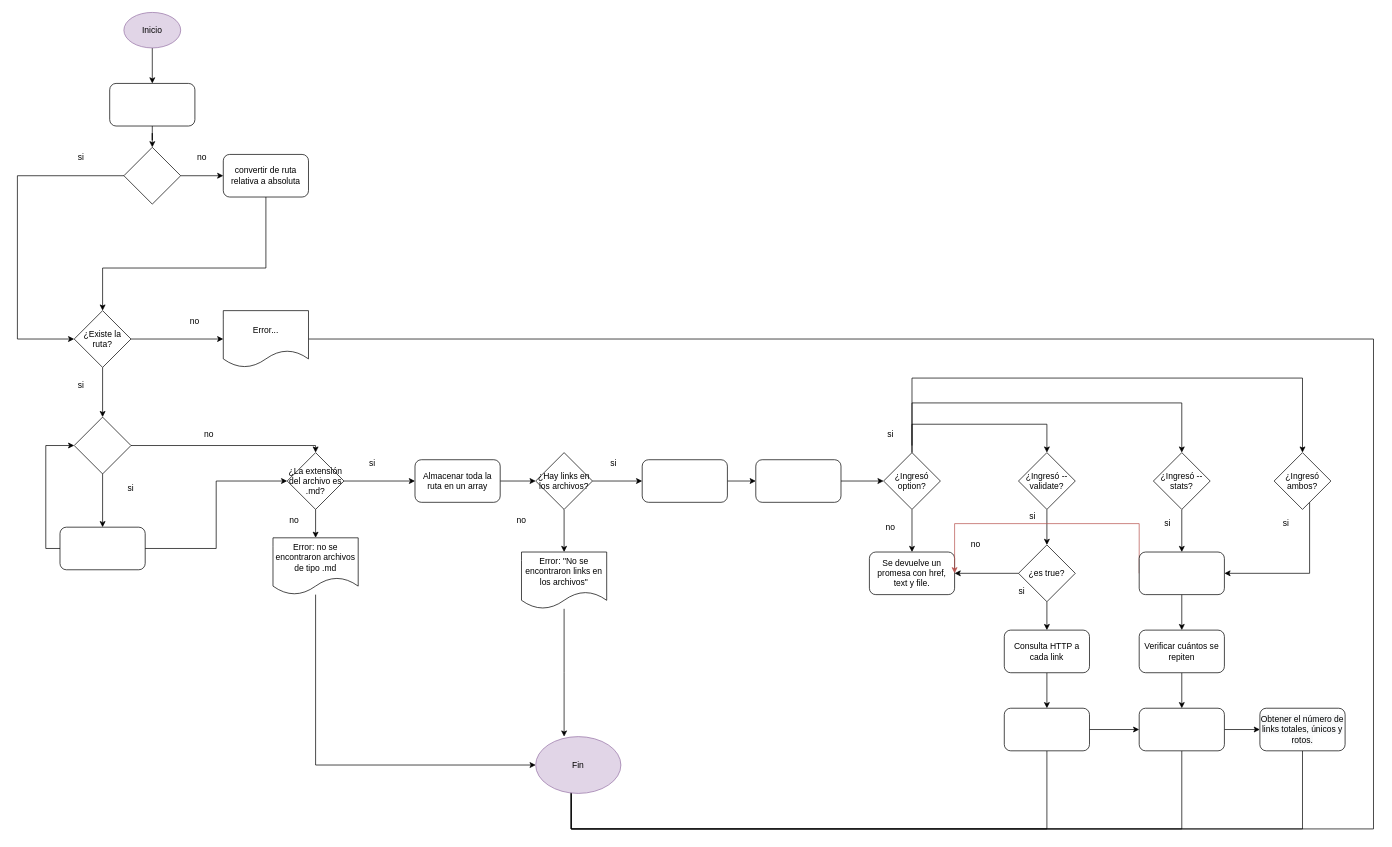
Some shapes in this 1392 by 847 pixel diagram are drawn without their labels. Here are the shapes that lost their labels. From the top down, the centre of each, then its label:
At pixel 152 104: "Ingreso de path/ruta".
At pixel 152 175: "¿es asoluta?".
At pixel 102 445: "¿es un directorio?".
At pixel 684 480: "Extraer los links".
At pixel 798 480: "Crear un objeto por cada link".
At pixel 102 548: "Recorrer y listar el contenido del directorio".
At pixel 1181 573: "Recorrer todos".
At pixel 1046 729: "Se devuelve un promesa con href, text, file, status y ok( ok/failed)".
At pixel 1181 729: "Obtener el número de links totales y únicos.".
